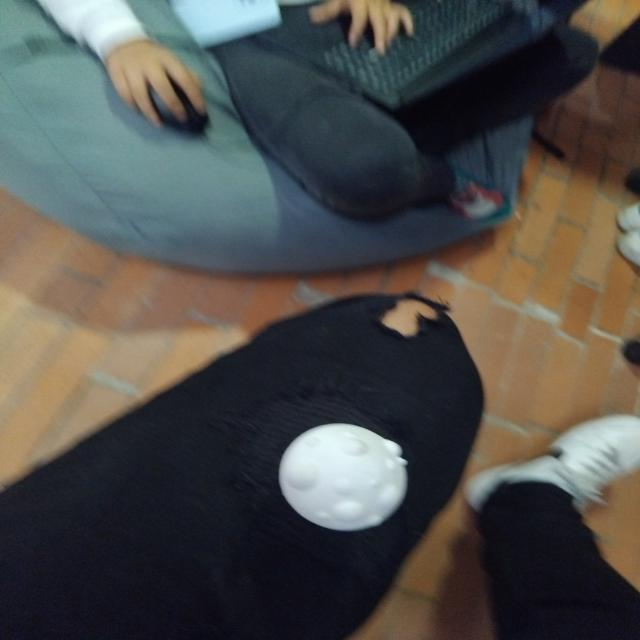Hongo: (273, 413, 413, 536)
